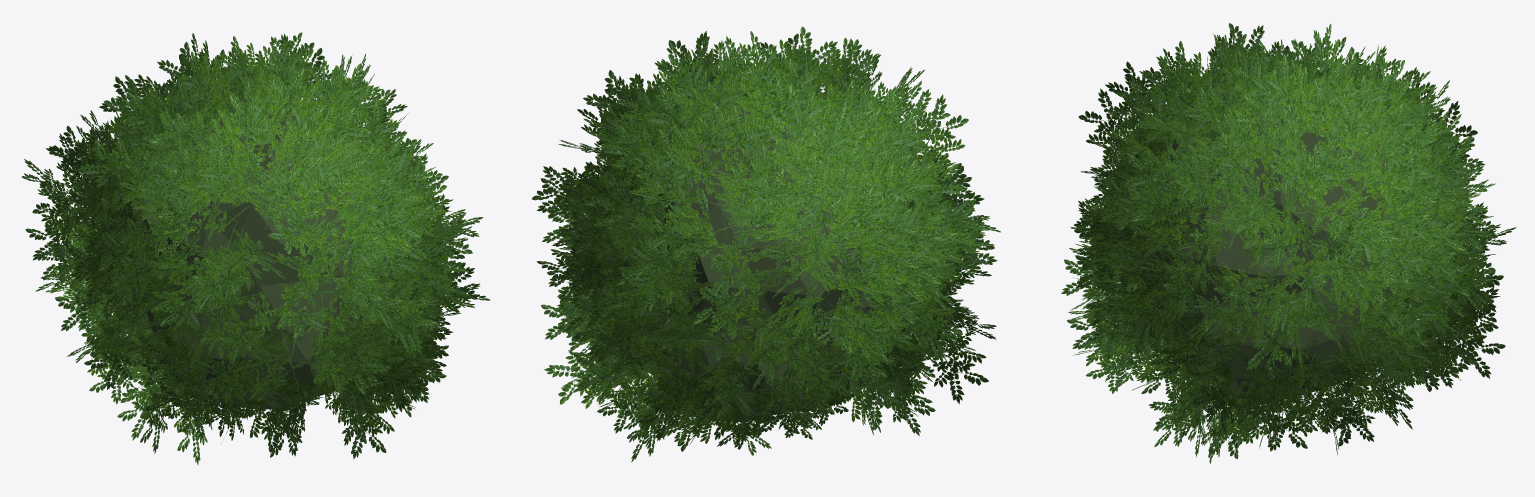
Rendered from bush_small_01.glb.
The picture shows the model from 3 angles, left to right: view 1: azimuth 30°, elevation 25°; view 2: azimuth 150°, elevation 25°; view 3: azimuth 270°, elevation 25°; orthographic projection. The views are drawn at different scales.
Parts seen in each view (by area): view 1: hojas, nucleo; view 2: hojas, nucleo; view 3: hojas, nucleo.
Part boxes in pixels (bbox=[...]): hojas: bbox=[22, 32, 490, 464]; nucleo: bbox=[106, 110, 394, 409]; hojas: bbox=[532, 26, 1000, 462]; nucleo: bbox=[630, 103, 907, 421]; hojas: bbox=[1061, 23, 1516, 463]; nucleo: bbox=[1130, 106, 1417, 402].
Size of the model in its own units: 1.22 by 1.18 by 1.24.
2 materials, 1 textured.
